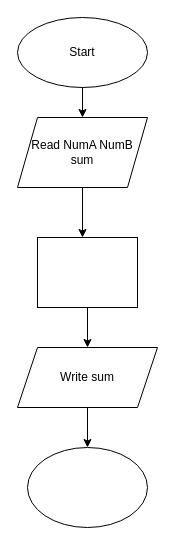
Image size: 175x545. Some labels were removed from this diagram. The shapes that lost their labels are listed below. From the top down, each one's centre as x and y in pixels, then its label:
the point at 87,272: Square 1=Num A x Num A Square 2= Num B x Num B
the point at 87,487: End
